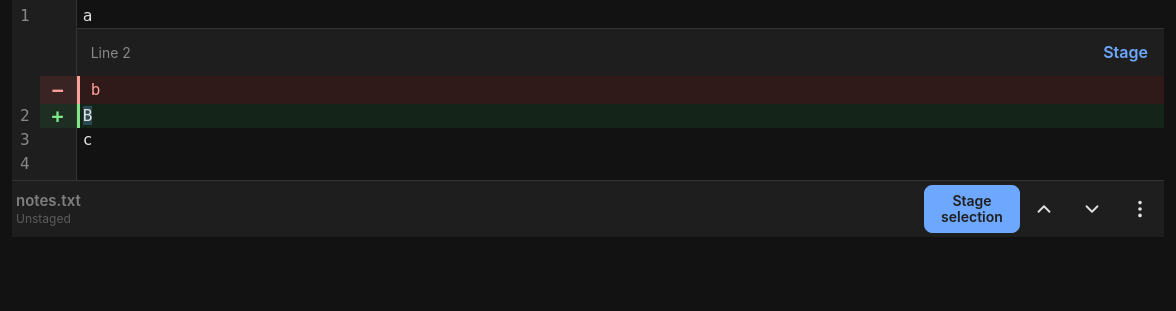
Test: staging › explains a refusal because the file changed since it was loaded
The width and height of the screenshot is (1176, 311).
Expected: the field with class "cm-content" is shown, [77, 0, 1164, 180]
Click the button "Stage selection".
click(972, 209)  # box [924, 185, 1020, 233]
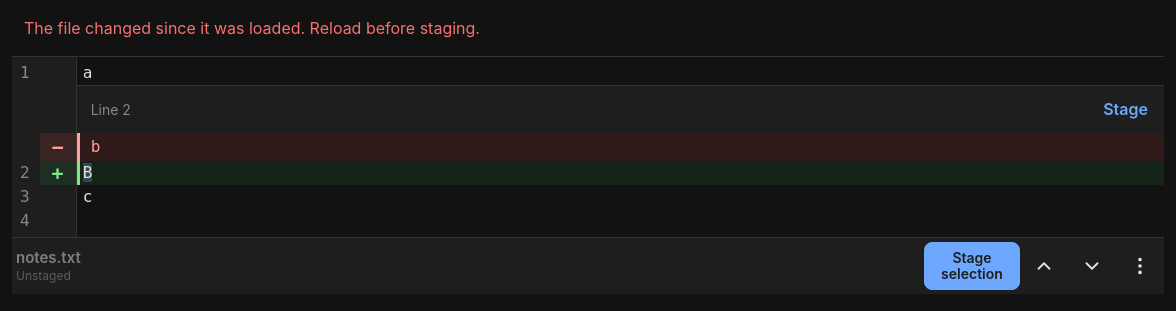
Expected: the text "The file changed since it was loaded. Reload before staging." is shown, [12, 0, 1164, 57]
